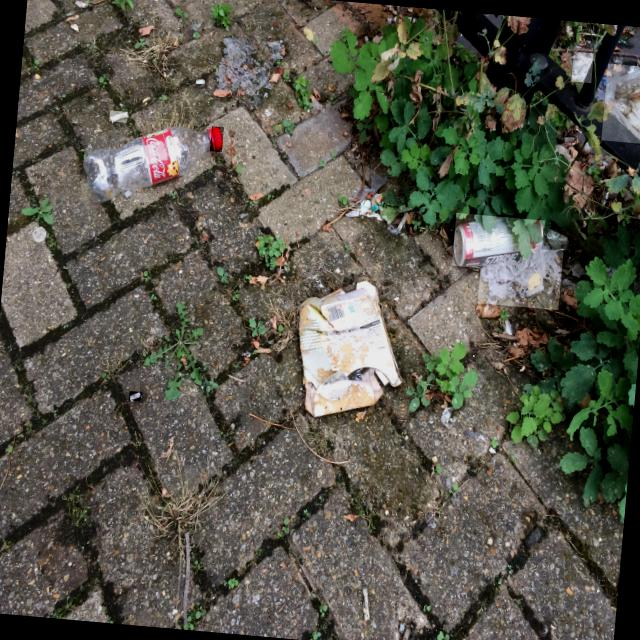Bottle cap: (211, 126, 222, 151)
Cigarette: (110, 112, 127, 121), (130, 392, 141, 400), (75, 0, 87, 7), (196, 80, 203, 84)
Clear plastic bottle: (83, 126, 222, 202)
Drink can: (454, 217, 543, 266)
Food Carton: (299, 281, 403, 417)
Food container: (605, 69, 640, 140)
Paper bag: (480, 240, 561, 304)
Unlabeled litter: (571, 53, 593, 82), (543, 228, 568, 251)
